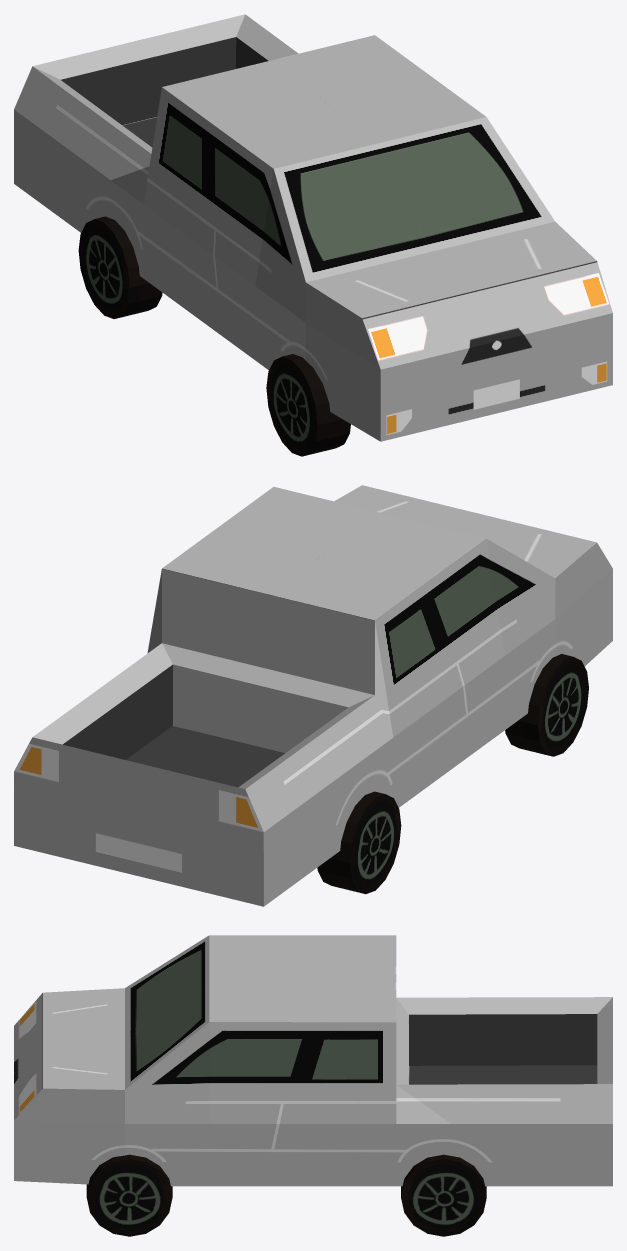
Rendered from car_truck grey_v1.fbx.
The picture shows the model from 3 angles, top to bottom: view 1: azimuth 30°, elevation 25°; view 2: azimuth 150°, elevation 25°; view 3: azimuth 270°, elevation 25°; orthographic projection. The views are drawn at different scales.
Parts seen in each view (by area): view 1: Body.008, Wheels.007; view 2: Body.008, Wheels.007; view 3: Body.008, Wheels.007.
Part boxes in pixels (x1,y1,x2,y2): Body.008: [14, 14, 612, 441]; Wheels.007: [78, 216, 350, 456]; Body.008: [14, 485, 612, 906]; Wheels.007: [317, 654, 588, 894]; Body.008: [14, 935, 612, 1186]; Wheels.007: [86, 1154, 486, 1236].
Size of the model in its own units: 260 by 222 by 595.
